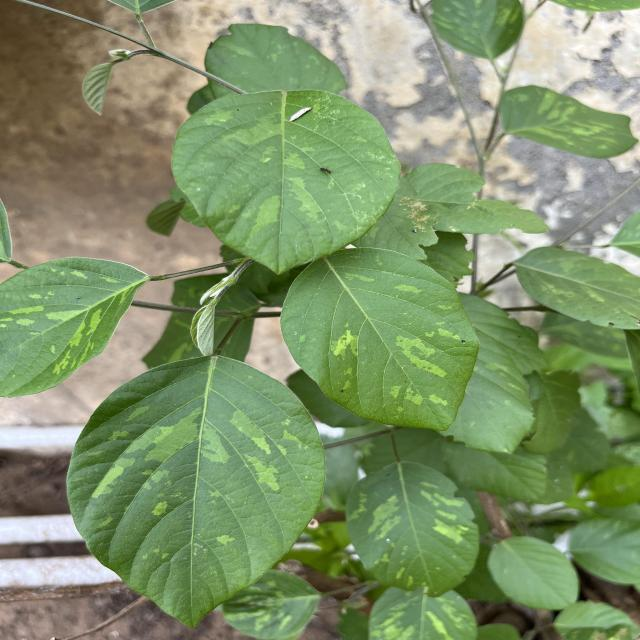Desmodium gangeticum: (64, 348, 330, 632), (167, 87, 406, 278), (277, 242, 485, 434), (1, 252, 153, 402)
